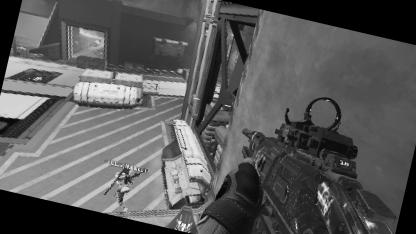Target: (112, 167, 134, 204)
